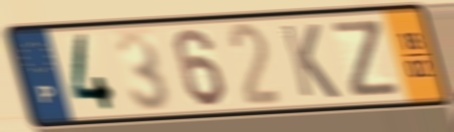2: (227, 21, 286, 110)
3: (115, 28, 171, 113)
4: (69, 31, 118, 116)
6: (171, 26, 227, 109)
K: (278, 22, 343, 101)
Z: (328, 18, 403, 100)
